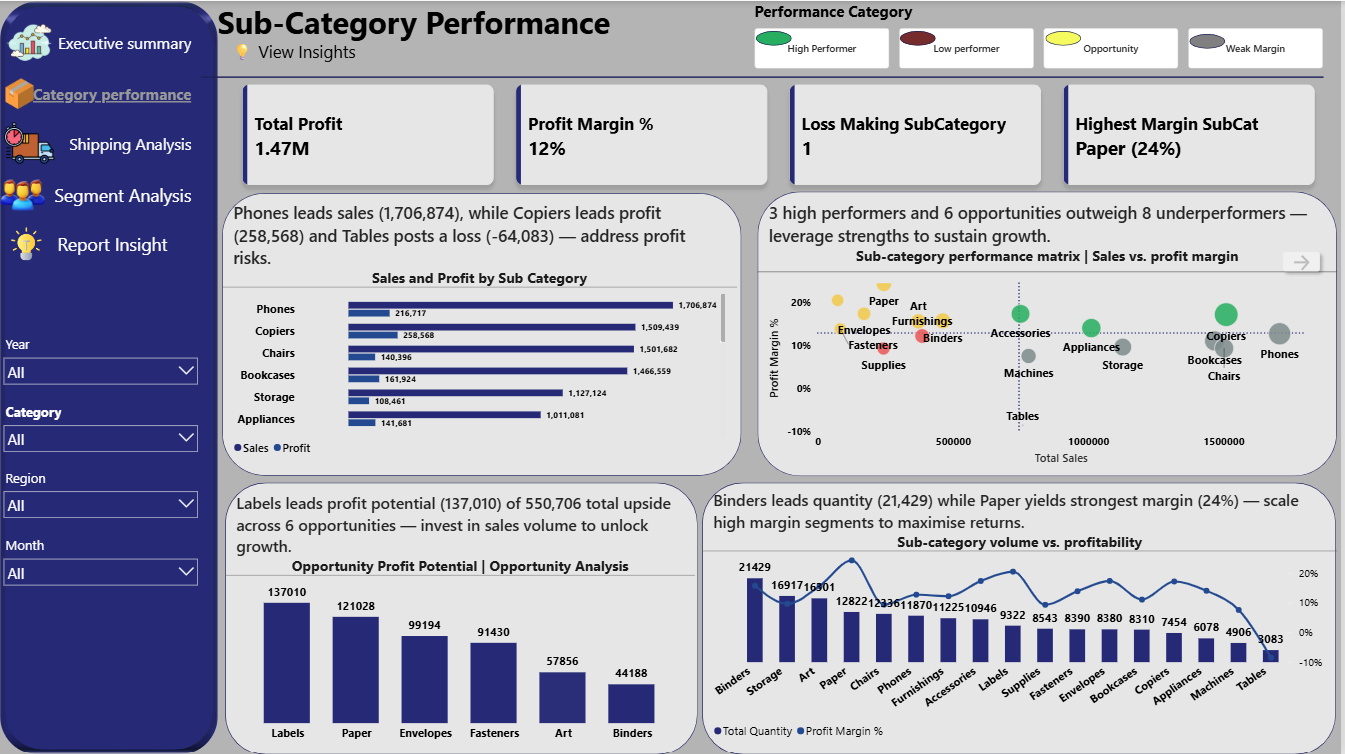

The page's visual inventory and layout, read from the dashboard file:
{"tool":"powerbi","page":{"name":"Category Performance","canvas":[1920,1080],"ordinal":1},"visuals":[{"type":"image","box":[0,0,312,1080],"z":0,"group":"g3"},{"type":"group","id":"g1","title":"Group 6","box":[0,24,84.4,288],"z":0,"group":"g13"},{"type":"shape","box":[0,24,274.2,72],"z":0,"group":"g4"},{"type":"actionButton","box":[0,24,288,72],"z":0,"group":"g14"},{"type":"cardVisual","fields":{"Data":["Calculated Measures.Total Profit","Calculated Measures.Profit Margin %","Calculated Measures.Loss SubCategory","Calculated Measures.Top SubCategory"]},"box":[336,107,1560,168],"z":0},{"type":"image","box":[0,168,84.4,72],"z":0,"group":"g1"},{"type":"shape","box":[326,283.1,738.1,419.2],"z":0,"group":"g7"},{"type":"group","id":"g2","title":"Group 2","box":[326,706,675,374],"z":0,"group":"g8"},{"type":"shape","box":[326,706,671.3,374],"z":0,"group":"g2"},{"type":"shape","box":[1008,706,886,374],"z":0,"group":"g5"},{"type":"group","id":"g3","title":"Right Panel","box":[0,0,312,1080],"z":1000},{"type":"shape","box":[0,0,312,1080],"z":1000,"group":"g3"},{"type":"group","id":"g4","title":"Group 7","box":[0,24,274.2,288],"z":1000,"group":"g13"},{"type":"image","box":[0,96,56,72],"z":1000,"group":"g1"},{"type":"shape","box":[0,96,274.2,72],"z":1000,"group":"g4"},{"type":"actionButton","box":[0,96,288,72],"z":1000,"group":"g14"},{"type":"shape","box":[1080,280,830,412],"z":1000,"group":"g11"},{"type":"group","id":"g5","title":"Group 3","box":[1008,706,888,374],"z":1000,"group":"g8"},{"type":"group","id":"g6","title":"Top Panel","box":[312,0,1608,144],"z":2000},{"type":"actionButton","box":[0,168,288,72],"z":2000,"group":"g14"},{"type":"image","box":[0,240,65,72],"z":2000,"group":"g1"},{"type":"shape","box":[0,240,274.2,72],"z":2000,"group":"g4"},{"type":"image","box":[0,24,84.4,72],"z":3000,"group":"g1"},{"type":"shape","box":[312,72,1608,72],"z":3000,"group":"g6"},{"type":"shape","box":[0,168,274.2,72],"z":3000,"group":"g4"},{"type":"actionButton","box":[0,240,288,72],"z":3000,"group":"g14"},{"type":"group","id":"g7","title":"Group 1","box":[326,280,732,412],"z":3000,"group":"g9"},{"type":"group","id":"g8","title":"Group 4","box":[326,706,1570,374],"z":3000},{"type":"group","id":"g9","title":"Group 10","box":[326,280,1584,412],"z":4000},{"type":"clusteredBarChart","fields":{"Category":["Superstore Data.Sub Category"],"Y":["Calculated Measures.Total Sales","Calculated Measures.Total Profit"]},"box":[326,280,732,412],"z":4000,"group":"g7"},{"type":"group","id":"g10","title":"Group 7","box":[1080,280,830,412],"z":4000,"group":"g9"},{"type":"group","id":"g11","title":"Group 5","box":[1080,280,830,412],"z":5000,"group":"g10"},{"type":"scatterChart","fields":{"X":["Calculated Measures.Total Sales"],"Y":["Calculated Measures.Profit Margin %"],"Category":["Superstore Data.Sub Category"],"Size":["Calculated Measures.Total Profit"]},"box":[1080,280,830,412],"z":6000,"group":"g11"},{"type":"advancedSlicerVisual","fields":{"Values":["Top/Bottom.Value"]},"box":[722.2,288.5,235.2,45.9],"z":6000,"group":"g16"},{"type":"shape","title":"Group 10","box":[336,0,696,96],"z":7000,"group":"g6"},{"type":"clusteredColumnChart","fields":{"Category":["Superstore Data.Sub Category"],"Y":["Calculated Measures.Potential Additional Profit"]},"box":[326,706,675,374],"z":7000,"group":"g2"},{"type":"slicer","fields":{"Values":["Parameter.Parameter"]},"box":[950.2,280,76.4,65.8],"z":8000,"group":"g16"},{"type":"image","box":[0,312,75,72],"z":8000},{"type":"slicer","fields":{"Values":["Superstore Data.Region"]},"box":[0,672,288,72],"z":8000,"group":"g12"},{"type":"shape","box":[0,312,240,72],"z":9000},{"type":"group","id":"g12","title":"Filters","box":[0,480,288,360],"z":9000,"group":"g3"},{"type":"slicer","fields":{"Values":["Date_Table.Year"]},"box":[0,480,288,72],"z":9000,"group":"g12"},{"type":"group","id":"g13","title":"Group 8","box":[0,24,274.2,288],"z":10000,"group":"g15"},{"type":"actionButton","box":[1823.5,358.7,71.2,46.6],"z":10500,"group":"g10"},{"type":"advancedSlicerVisual","title":"Performance Category","fields":{"Values":["SubCategory Performance.Performance Category"]},"box":[1104,0,816,96],"z":11000,"group":"g6"},{"type":"lineClusteredColumnComboChart","fields":{"Category":["Superstore Data.Sub Category"],"Y":["Calculated Measures.Total Quantity"],"Y2":["Calculated Measures.Profit Margin %"]},"box":[1008,706,888,374],"z":11000,"group":"g5"},{"type":"group","id":"g14","title":"Group 9","box":[0,24,288,288],"z":12000,"group":"g15"},{"type":"shape","box":[312,48,264,48],"z":12000,"group":"g6"},{"type":"group","id":"g15","title":"Navigation Menu","box":[0,24,288,288],"z":13000,"group":"g3"},{"type":"slicer","fields":{"Values":["Superstore Data.Category"]},"box":[0,576,288,72],"z":13000,"group":"g12"},{"type":"slicer","fields":{"Values":["Date_Table.Month"]},"box":[0,768,288,72],"z":15000,"group":"g12"},{"type":"group","id":"g16","title":"Group 6","box":[722.2,280,304.5,65.8],"z":16000,"group":"g7"}]}

Visuals, with their boxes in screenshot pixels (x1, y1, x2, y2), scaled from the page's 1920x1080 canvas onto the 1345x754 screenshot:
image: <region>0, 0, 219, 753</region>
"Group 6" group: <region>0, 17, 59, 218</region>
shape: <region>0, 17, 192, 67</region>
actionButton: <region>0, 17, 202, 67</region>
cardVisual - Calculated Measures.Total Profit x Calculated Measures.Profit Margin %: <region>235, 75, 1328, 192</region>
image: <region>0, 117, 59, 168</region>
shape: <region>228, 198, 745, 490</region>
"Group 2" group: <region>228, 493, 701, 753</region>
shape: <region>228, 493, 699, 753</region>
shape: <region>706, 493, 1327, 753</region>
"Right Panel" group: <region>0, 0, 219, 753</region>
shape: <region>0, 0, 219, 753</region>
"Group 7" group: <region>0, 17, 192, 218</region>
image: <region>0, 67, 39, 117</region>
shape: <region>0, 67, 192, 117</region>
actionButton: <region>0, 67, 202, 117</region>
shape: <region>757, 195, 1338, 483</region>
"Group 3" group: <region>706, 493, 1328, 753</region>
"Top Panel" group: <region>219, 0, 1344, 101</region>
actionButton: <region>0, 117, 202, 168</region>
image: <region>0, 168, 46, 218</region>
shape: <region>0, 168, 192, 218</region>
image: <region>0, 17, 59, 67</region>
shape: <region>219, 50, 1344, 101</region>
shape: <region>0, 117, 192, 168</region>
actionButton: <region>0, 168, 202, 218</region>
"Group 1" group: <region>228, 195, 741, 483</region>
"Group 4" group: <region>228, 493, 1328, 753</region>
"Group 10" group: <region>228, 195, 1338, 483</region>
clusteredBarChart - Superstore Data.Sub Category x Calculated Measures.Total Sales: <region>228, 195, 741, 483</region>
"Group 7" group: <region>757, 195, 1338, 483</region>
"Group 5" group: <region>757, 195, 1338, 483</region>
scatterChart - Calculated Measures.Total Sales x Calculated Measures.Profit Margin %: <region>757, 195, 1338, 483</region>
advancedSlicerVisual - Top/Bottom.Value: <region>506, 201, 671, 233</region>
"Group 10" shape: <region>235, 0, 723, 67</region>
clusteredColumnChart - Superstore Data.Sub Category x Calculated Measures.Potential Additional Profit: <region>228, 493, 701, 753</region>
slicer - Parameter.Parameter: <region>666, 195, 719, 241</region>
image: <region>0, 218, 53, 268</region>
slicer - Superstore Data.Region: <region>0, 469, 202, 519</region>
shape: <region>0, 218, 168, 268</region>
"Filters" group: <region>0, 335, 202, 586</region>
slicer - Date_Table.Year: <region>0, 335, 202, 385</region>
"Group 8" group: <region>0, 17, 192, 218</region>
actionButton: <region>1277, 250, 1327, 283</region>
"Performance Category" advancedSlicerVisual: <region>773, 0, 1344, 67</region>
lineClusteredColumnComboChart - Superstore Data.Sub Category x Calculated Measures.Total Quantity: <region>706, 493, 1328, 753</region>
"Group 9" group: <region>0, 17, 202, 218</region>
shape: <region>219, 34, 404, 67</region>
"Navigation Menu" group: <region>0, 17, 202, 218</region>
slicer - Superstore Data.Category: <region>0, 402, 202, 452</region>
slicer - Date_Table.Month: <region>0, 536, 202, 586</region>
"Group 6" group: <region>506, 195, 719, 241</region>
